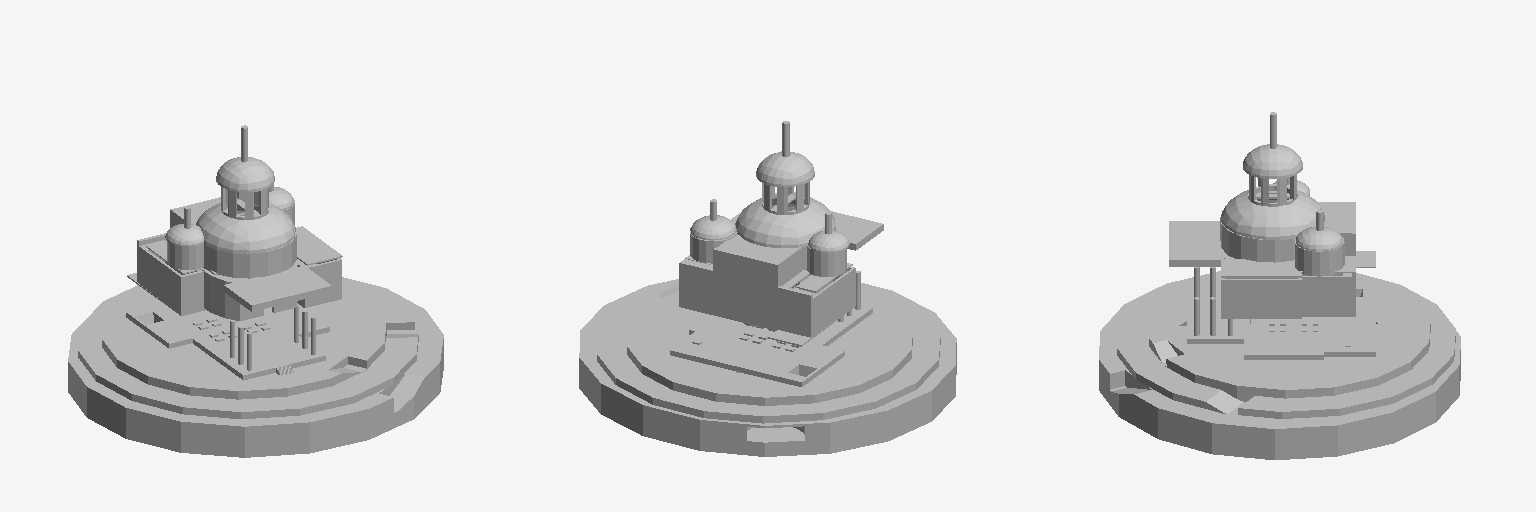
The model's file is Full Ruins.obj.
3 views of the same model, side by side, from view 1: azimuth 30°, elevation 25°; view 2: azimuth 150°, elevation 25°; view 3: azimuth 270°, elevation 25° (orthographic).
Parts seen in each view (by area): view 1: GreenGround_Mesh__1_, GreyGround_Mesh__3_, COLUMN_Mesh__5_, ROOFING_Mesh__3_, BeigeFloor_Mesh__3_, Wall_Mesh__1_, ROOFING_Mesh__1_, COLUMN_Mesh__3_, Wall_Mesh__3_; view 2: GreenGround_Mesh__1_, GreyGround_Mesh__3_, COLUMN_Mesh__5_, ROOFING_Mesh__3_, BeigeFloor_Mesh__3_, Wall_Mesh__1_, Wall_Mesh__3_, ROOFING_Mesh__1_, Wall_Mesh__5_, COLUMN_Mesh__3_; view 3: GreenGround_Mesh__1_, GreyGround_Mesh__3_, COLUMN_Mesh__5_, BeigeFloor_Mesh__3_, ROOFING_Mesh__3_, Wall_Mesh__1_, ROOFING_Mesh__1_, COLUMN_Mesh__3_, Wall_Mesh__3_.
Part boxes in pixels (bbox=[...]): GreenGround_Mesh__1_: bbox=[78, 276, 418, 418]; GreyGround_Mesh__3_: bbox=[68, 277, 443, 457]; COLUMN_Mesh__5_: bbox=[137, 125, 342, 282]; ROOFING_Mesh__3_: bbox=[165, 157, 295, 253]; BeigeFloor_Mesh__3_: bbox=[126, 303, 329, 375]; Wall_Mesh__1_: bbox=[139, 240, 341, 320]; ROOFING_Mesh__1_: bbox=[224, 266, 331, 311]; COLUMN_Mesh__3_: bbox=[127, 273, 315, 375]; Wall_Mesh__3_: bbox=[126, 313, 329, 380]; GreenGround_Mesh__1_: bbox=[597, 285, 940, 423]; GreyGround_Mesh__3_: bbox=[579, 279, 956, 456]; COLUMN_Mesh__5_: bbox=[679, 121, 852, 337]; ROOFING_Mesh__3_: bbox=[690, 151, 849, 252]; BeigeFloor_Mesh__3_: bbox=[671, 305, 871, 381]; Wall_Mesh__1_: bbox=[744, 267, 855, 335]; Wall_Mesh__3_: bbox=[670, 308, 872, 386]; ROOFING_Mesh__1_: bbox=[831, 211, 883, 250]; Wall_Mesh__5_: bbox=[772, 198, 811, 288]; COLUMN_Mesh__3_: bbox=[768, 271, 860, 346]; GreenGround_Mesh__1_: bbox=[1117, 272, 1455, 418]; GreyGround_Mesh__3_: bbox=[1099, 271, 1460, 459]; COLUMN_Mesh__5_: bbox=[1220, 112, 1355, 316]; BeigeFloor_Mesh__3_: bbox=[1187, 287, 1375, 354]; ROOFING_Mesh__3_: bbox=[1221, 144, 1342, 250]; Wall_Mesh__1_: bbox=[1221, 252, 1353, 323]; ROOFING_Mesh__1_: bbox=[1169, 221, 1223, 266]; COLUMN_Mesh__3_: bbox=[1179, 251, 1375, 335]; Wall_Mesh__3_: bbox=[1187, 339, 1375, 359].
Size of the model in its own units: 136 by 105 by 128.